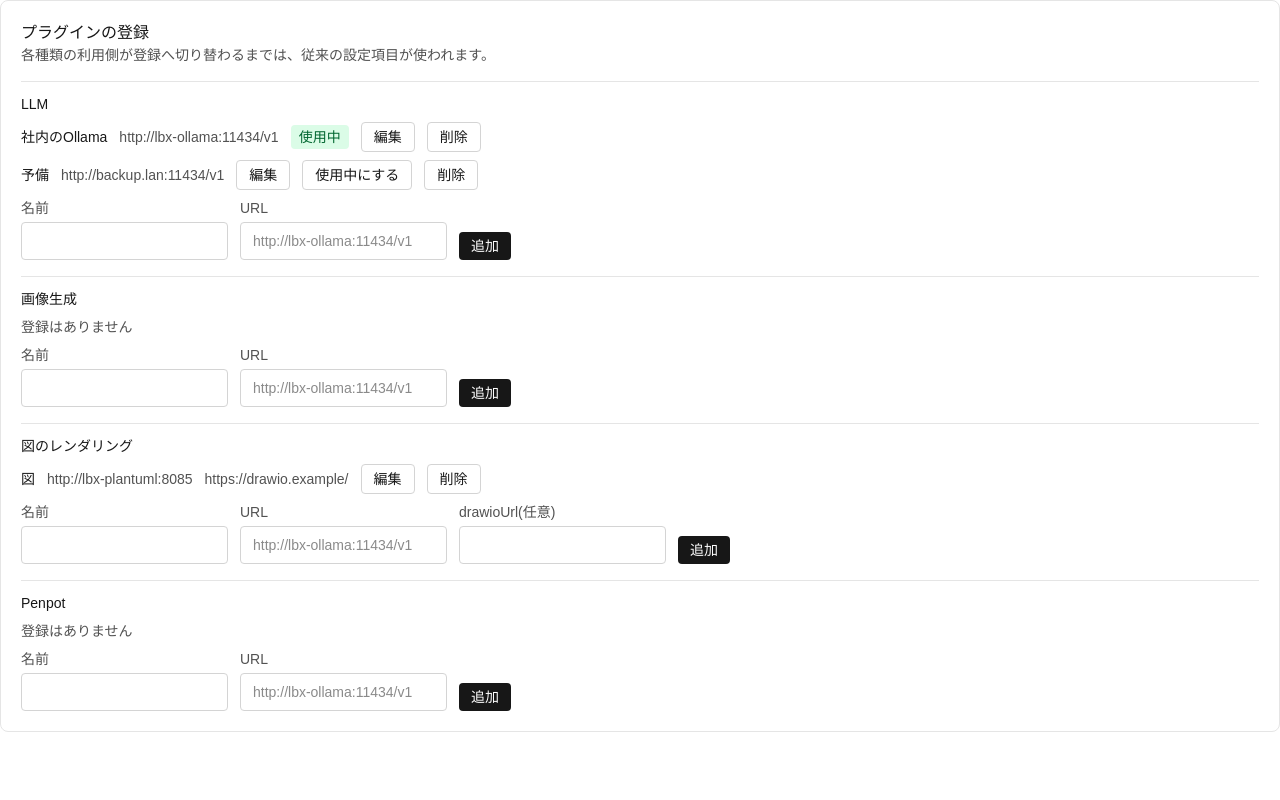
it: PluginRegistrationsPanel(issue #1807) › 削除・使用中の切り替えが失敗したら理由を表示する
This screenshot has width=1280, height=800.
Click the button "使用中にする".
click(357, 175)  # box x1=302 y1=160 x2=412 y2=190
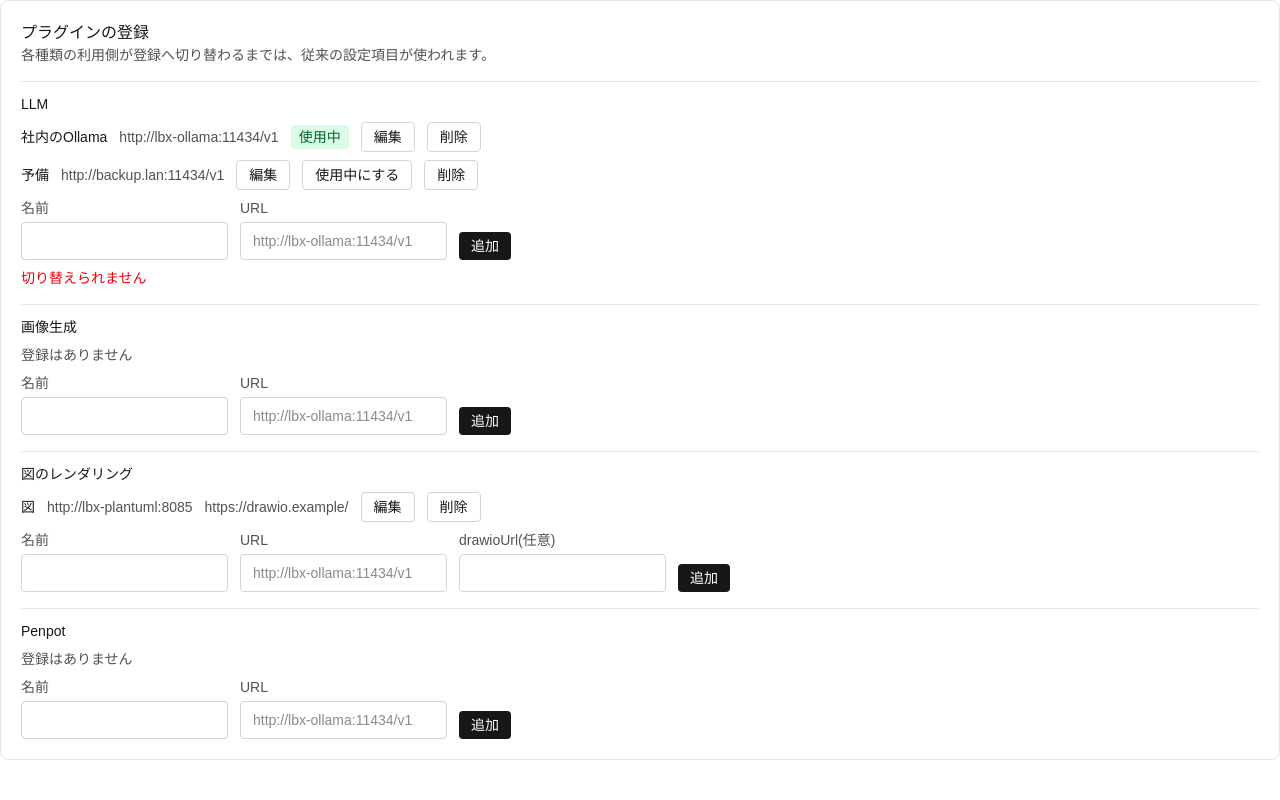
Expected: the message reads "切り替えられません", x1=21 y1=270 x2=147 y2=286
Click the button "削除" in the row of "http://backup.lan:11434/v1".
click(451, 175)  # box x1=424 y1=160 x2=478 y2=190
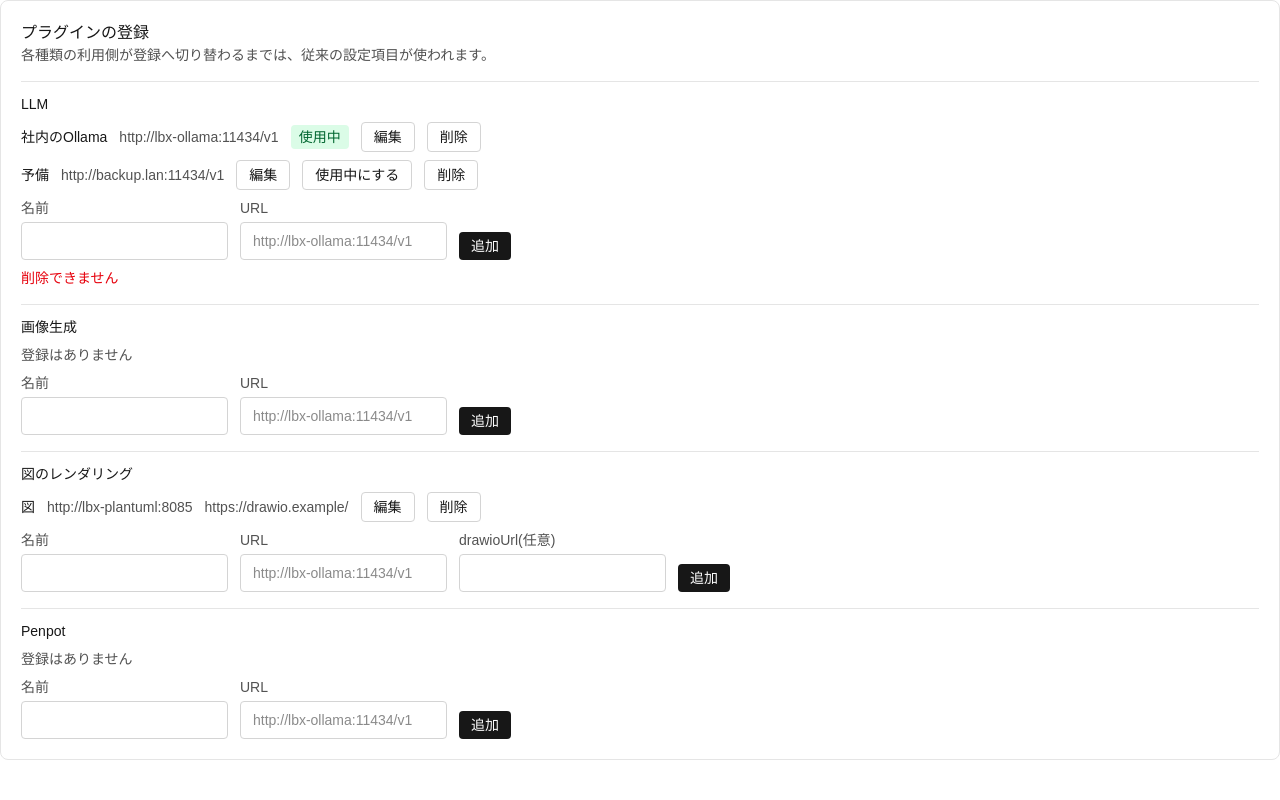
Expected: the message reads "削除できません", x1=21 y1=270 x2=119 y2=286
